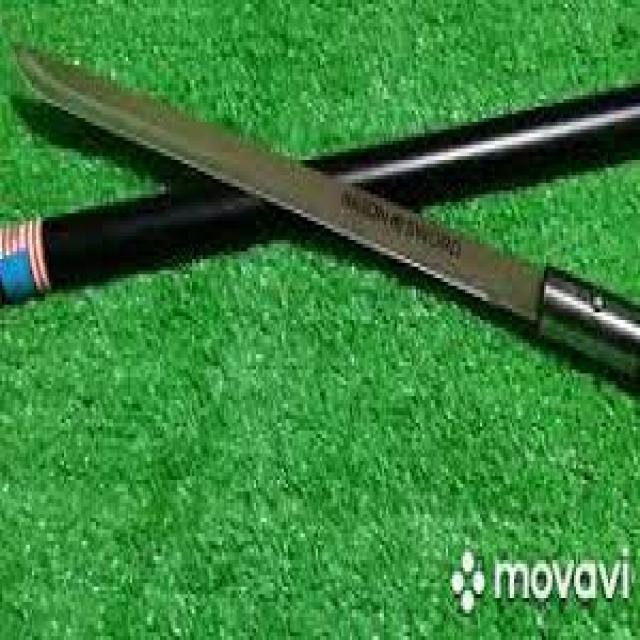long sword: (4, 42, 640, 385)
